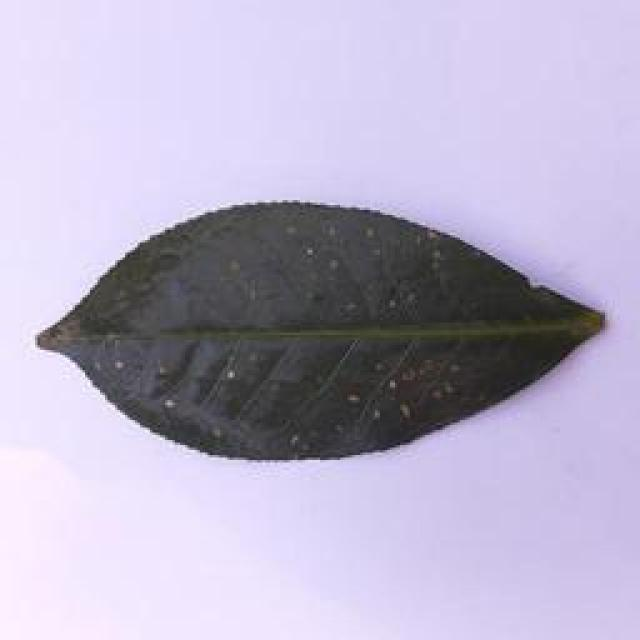Algal Leaf Spot: (33, 191, 610, 464)
